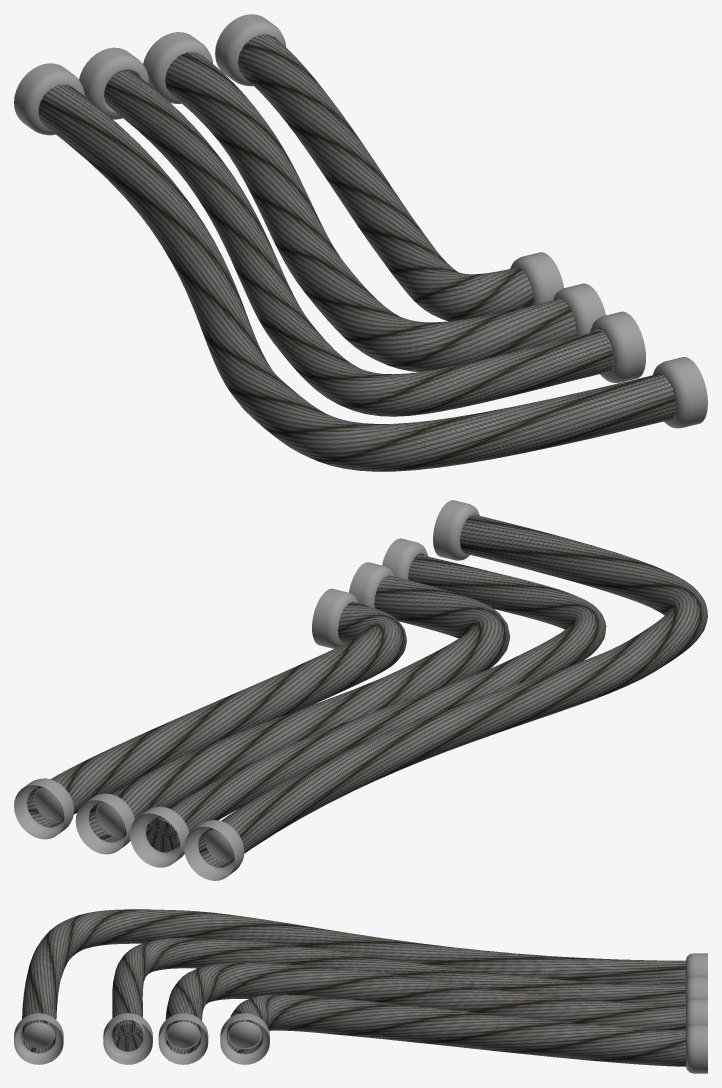
File: Pipes.fbx
3 views of the same model, one above another, from view 1: azimuth 30°, elevation 25°; view 2: azimuth 150°, elevation 25°; view 3: azimuth 270°, elevation 25° (orthographic). The views are drawn at different scales.
Visible parts, largest first — view 1: cable; view 2: cable; view 3: cable.
Boxes of the visible parts, box(x1,y1,x2,y2) form: cable: box(14, 14, 707, 471); cable: box(14, 500, 707, 880); cable: box(14, 909, 707, 1073).
Bounding box in the file's own units: 577 × 86.67 × 1208.
